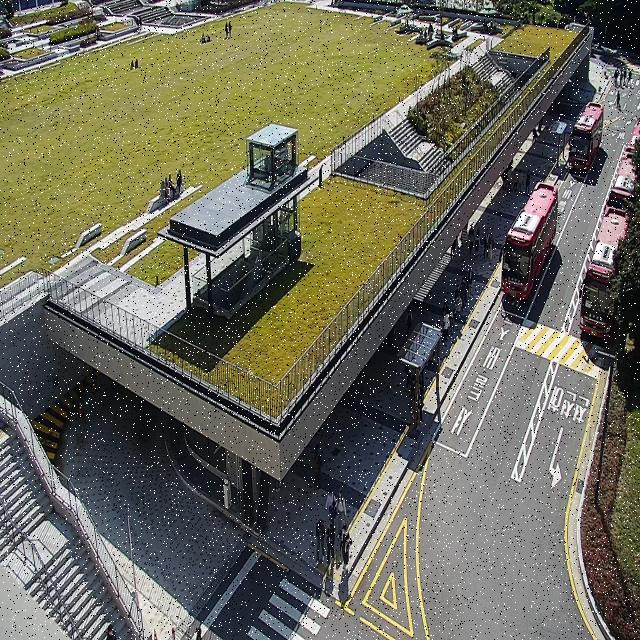queue: (416, 264, 474, 433)
